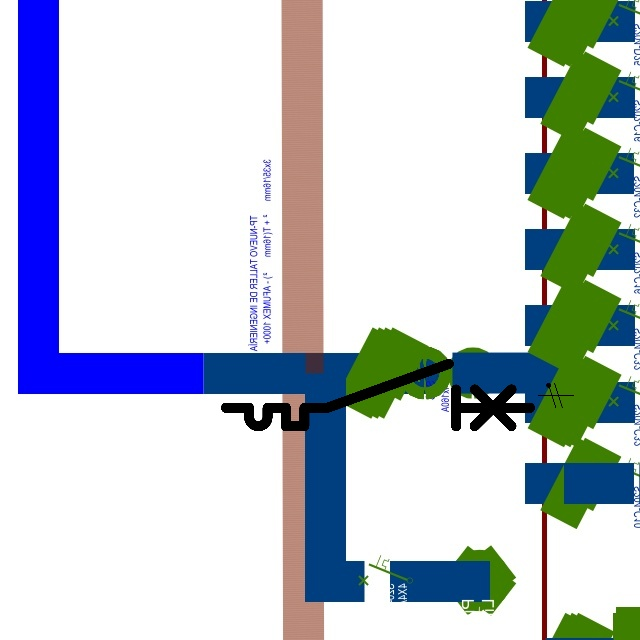interruptor_termomagnetico: (218, 356, 537, 434)
